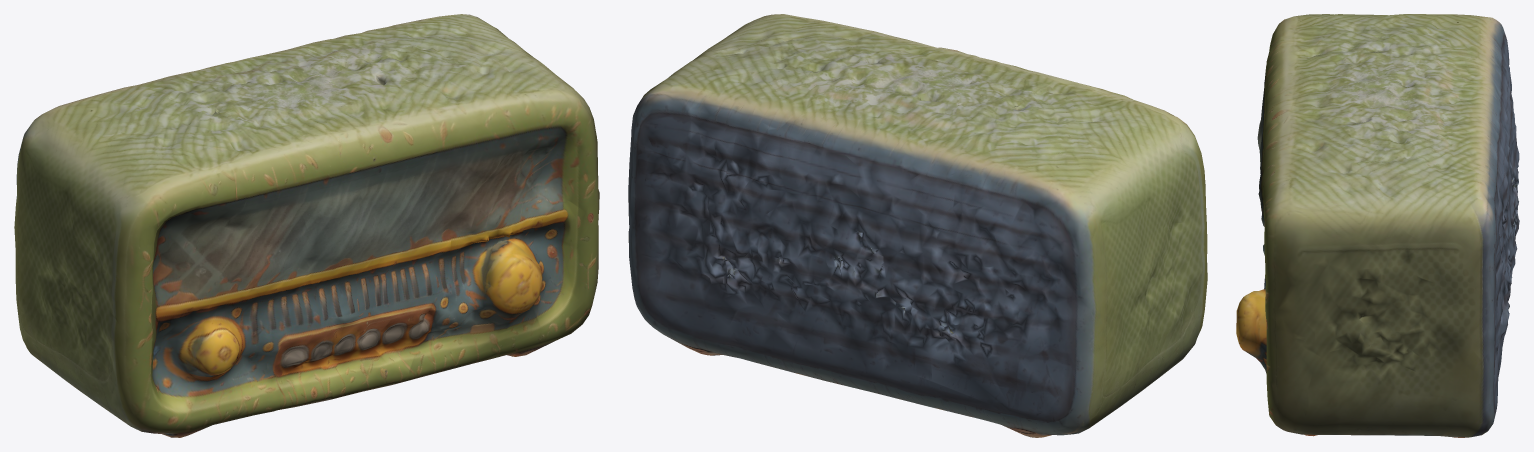
3 renders of one model, left to right at view 1: azimuth 30°, elevation 25°; view 2: azimuth 150°, elevation 25°; view 3: azimuth 270°, elevation 25°, orthographic. The views are drawn at different scales.
Size of the model in its own units: 1.2 by 0.6733 by 0.6438.
1 material, 1 textured.
